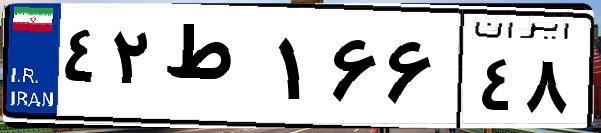1: (270, 28, 330, 110)
2: (110, 28, 158, 98)
4: (57, 26, 110, 100), (475, 38, 525, 113)
6: (385, 28, 445, 110), (330, 28, 385, 110)
8: (525, 38, 570, 115)
ط: (158, 20, 270, 120)
